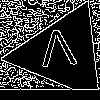V: (38, 28, 79, 77)
